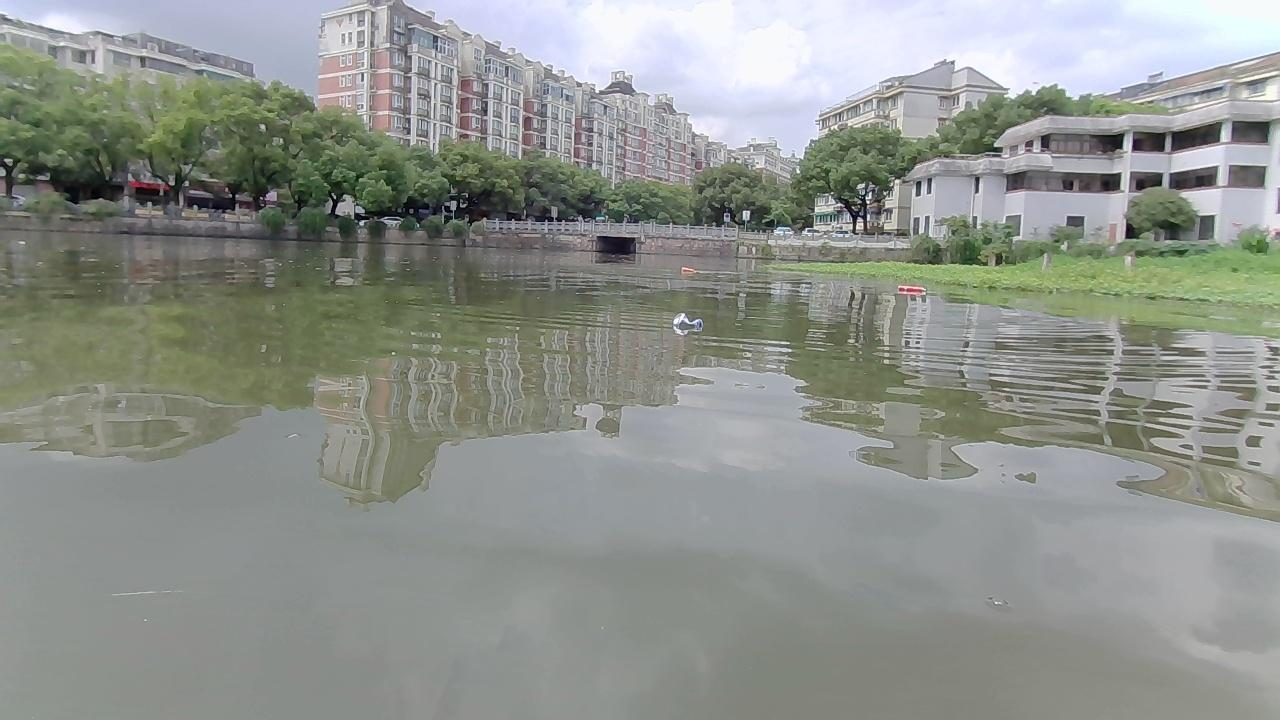bottle: (671, 310, 703, 327), (897, 284, 925, 290), (680, 266, 696, 272)
